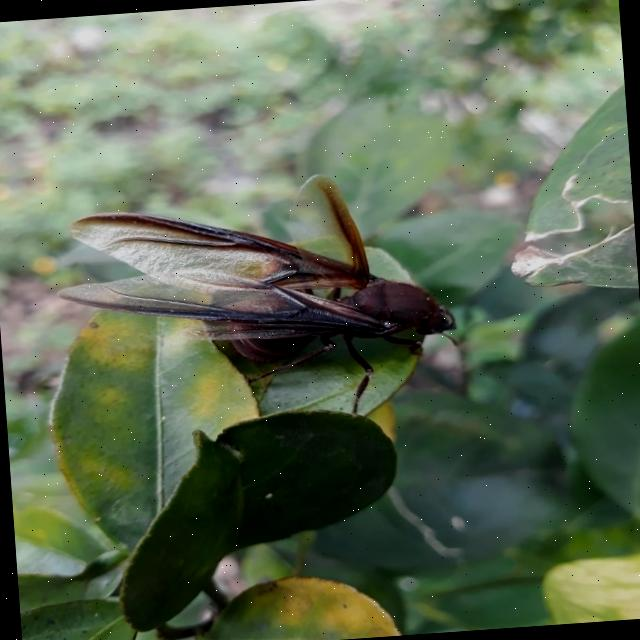Alive-Female-Alate: (51, 165, 461, 435)
